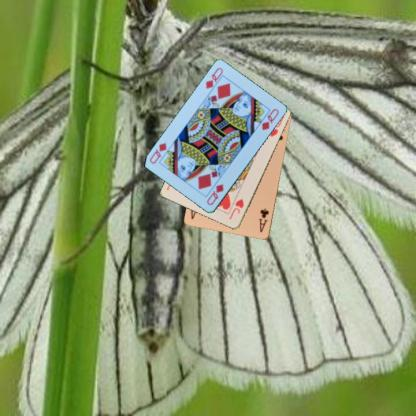Ac: (256, 206, 270, 233)
Jh: (226, 196, 245, 221)
Qd: (203, 65, 225, 95), (204, 181, 225, 207)
